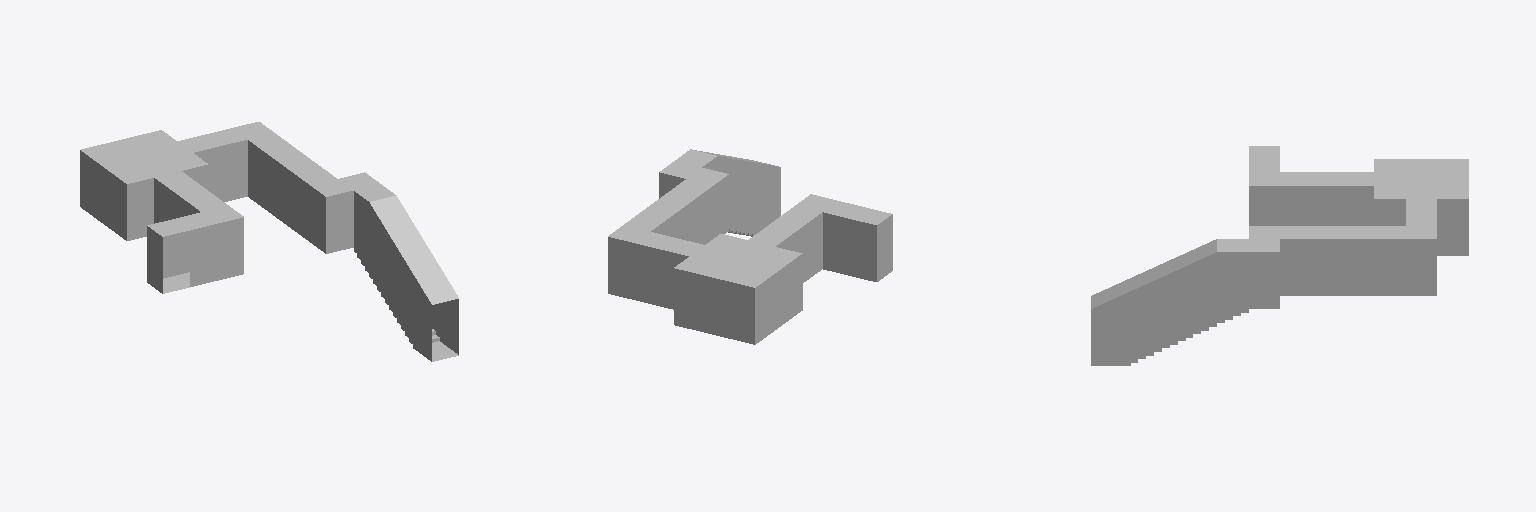
File: map2.obj
3 views of the same model, side by side, from view 1: azimuth 30°, elevation 25°; view 2: azimuth 150°, elevation 25°; view 3: azimuth 270°, elevation 25° (orthographic).
Parts seen in each view (by area): view 1: map2; view 2: map2; view 3: map2.
Part boxes in pixels (left/top/right/bottom): map2: left=80, top=122, right=458, bottom=361; map2: left=608, top=149, right=892, bottom=344; map2: left=1091, top=146, right=1468, bottom=365.
Bounding box in the file's own units: 8 × 4 × 12.